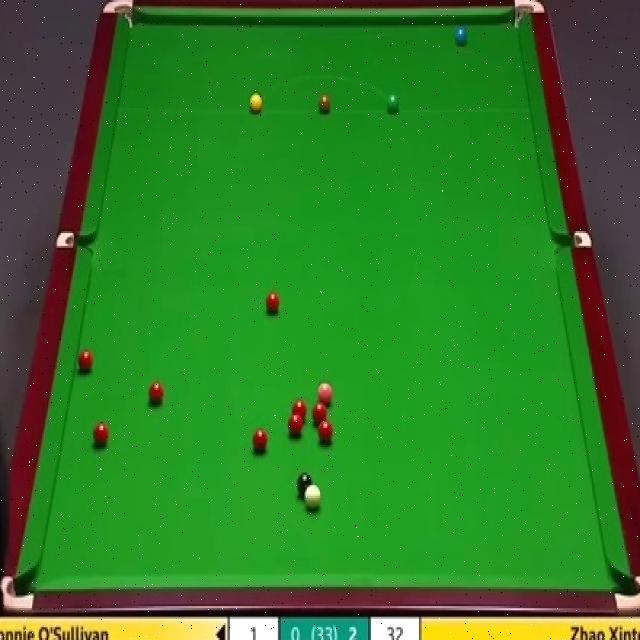black-ball: (296, 472, 314, 500)
blue-ball: (453, 21, 470, 47)
brown-ball: (318, 94, 332, 116)
green-ball: (386, 94, 400, 116)
pink-ball: (314, 380, 333, 406)
red-ball: (92, 421, 110, 450), (146, 380, 164, 406), (264, 290, 282, 316), (287, 414, 304, 439), (76, 348, 92, 374), (252, 428, 268, 454), (290, 399, 308, 422), (318, 419, 333, 444), (311, 403, 328, 424)
white-ball: (304, 484, 321, 513)
yellow-ball: (249, 92, 263, 114)
